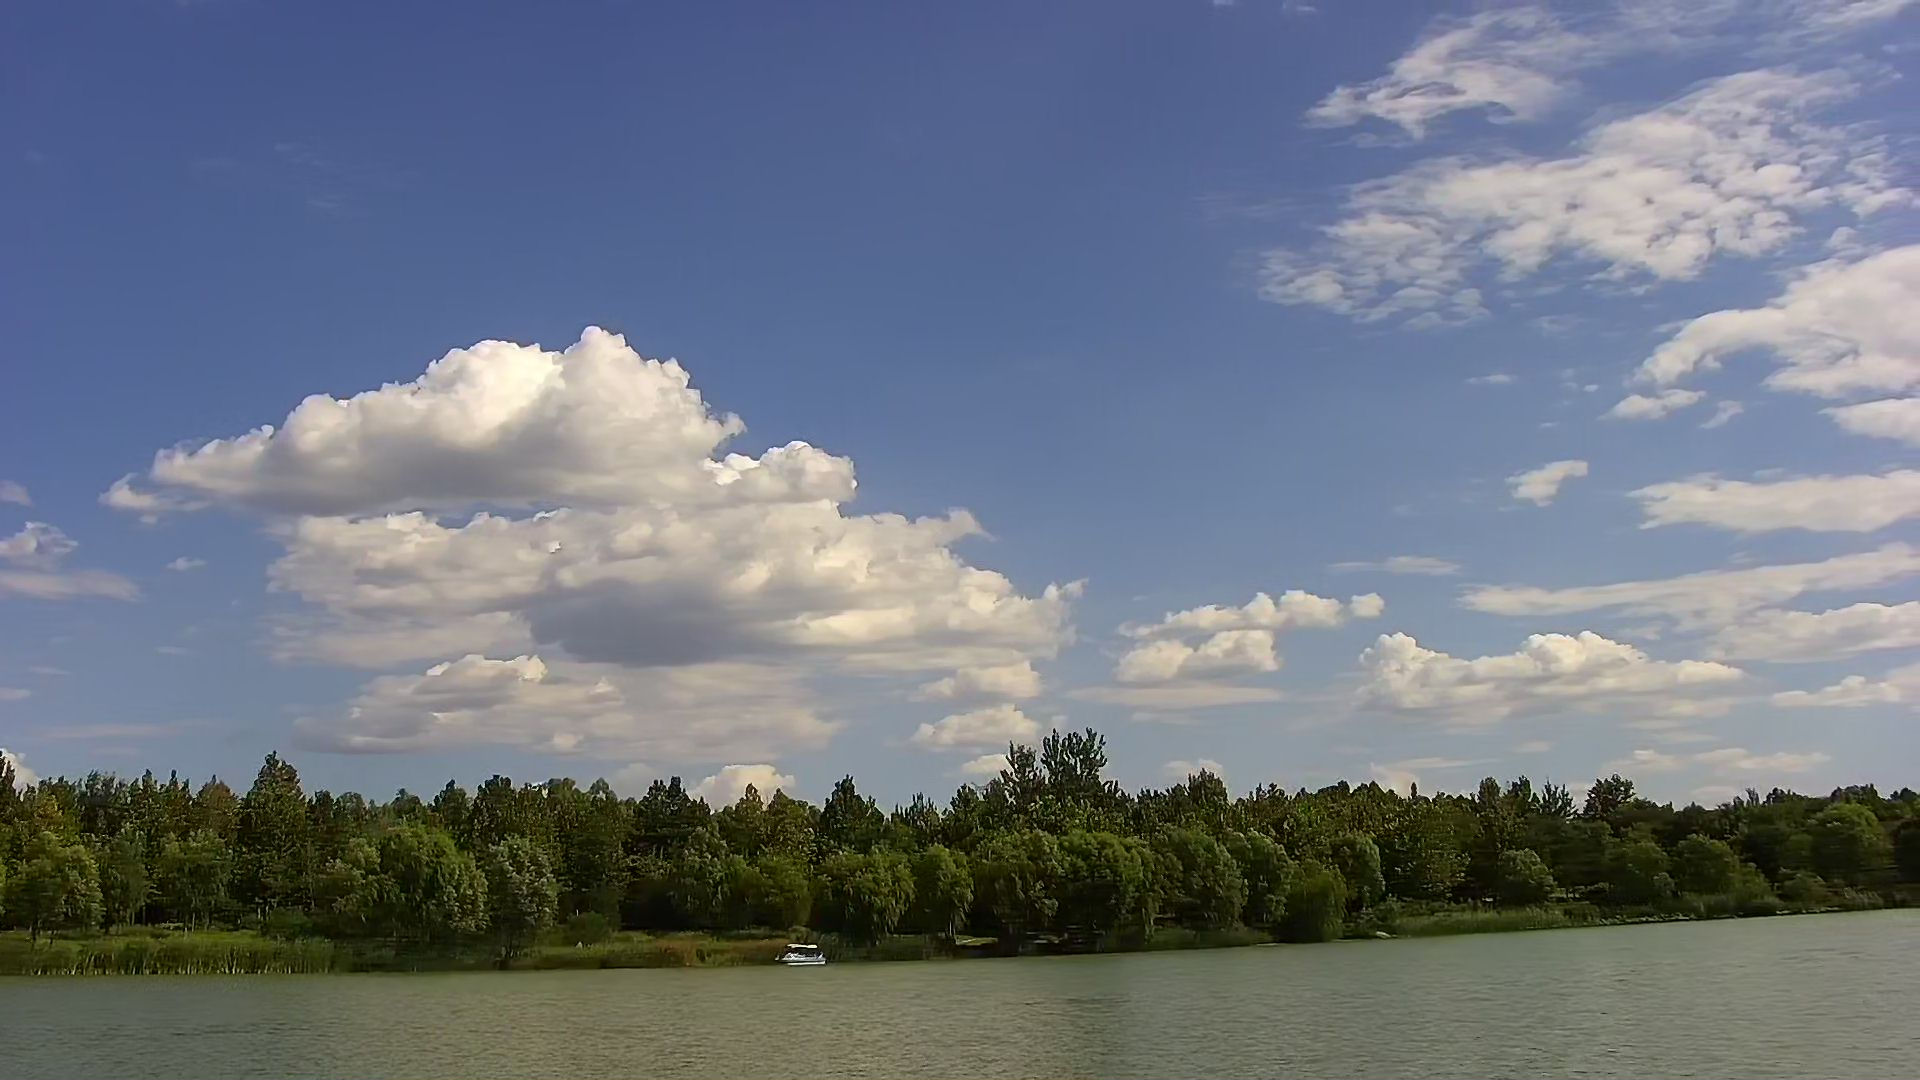boat: (771, 939, 833, 971)
